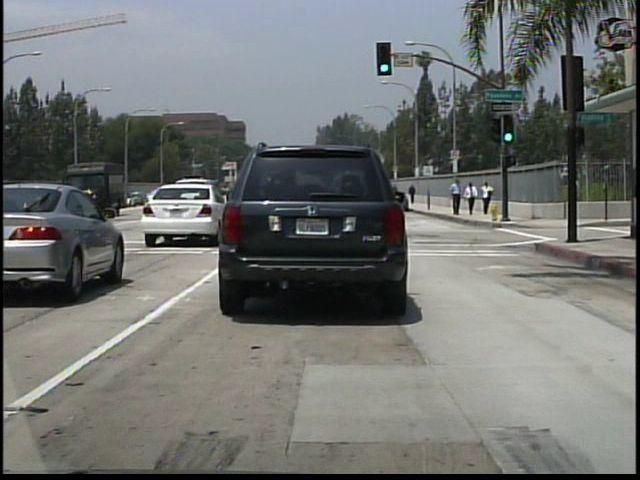person: (448, 178, 463, 218), (464, 179, 478, 215), (479, 179, 493, 214), (407, 183, 417, 206)
